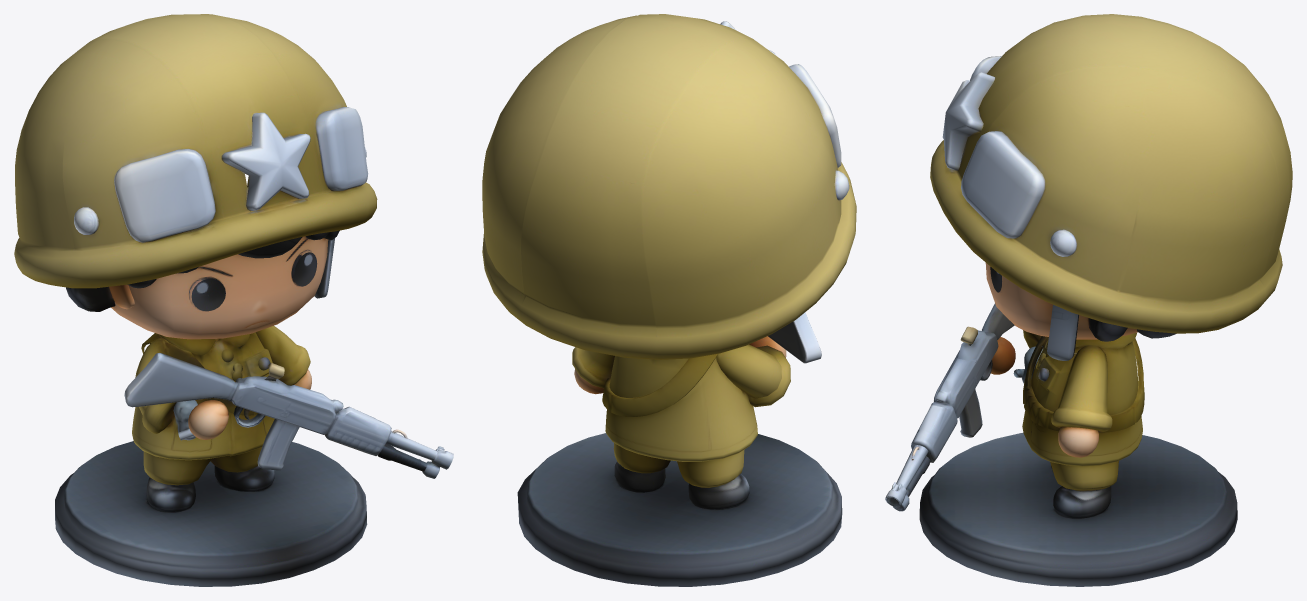
The model's file is myan-pawn.glb.
The picture shows the model from 3 angles, left to right: view 1: azimuth 30°, elevation 25°; view 2: azimuth 150°, elevation 25°; view 3: azimuth 270°, elevation 25°; orthographic projection. The views are drawn at different scales.
Parts seen in each view (by area): view 1: tripo_7bbdaaa3_29e3_4196_986a_060b192ddb20; view 2: tripo_7bbdaaa3_29e3_4196_986a_060b192ddb20; view 3: tripo_7bbdaaa3_29e3_4196_986a_060b192ddb20.
Boxes of the visible parts, x1,y1,x2,y2 form: tripo_7bbdaaa3_29e3_4196_986a_060b192ddb20: (14, 14, 453, 586); tripo_7bbdaaa3_29e3_4196_986a_060b192ddb20: (482, 14, 856, 586); tripo_7bbdaaa3_29e3_4196_986a_060b192ddb20: (885, 14, 1292, 586).
Bounding box in the file's own units: 0.6929 × 0.9995 × 0.7593.
1 material, 1 textured.
